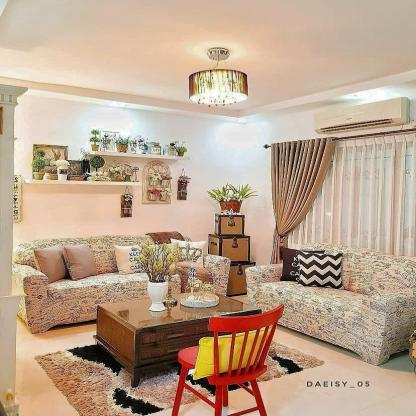kursi: (166, 308, 278, 416)
lampu: (174, 61, 260, 111)
meja: (69, 289, 275, 371)
sova: (9, 237, 260, 329), (243, 239, 416, 365)
tanaman: (129, 245, 183, 313), (207, 183, 257, 217)
